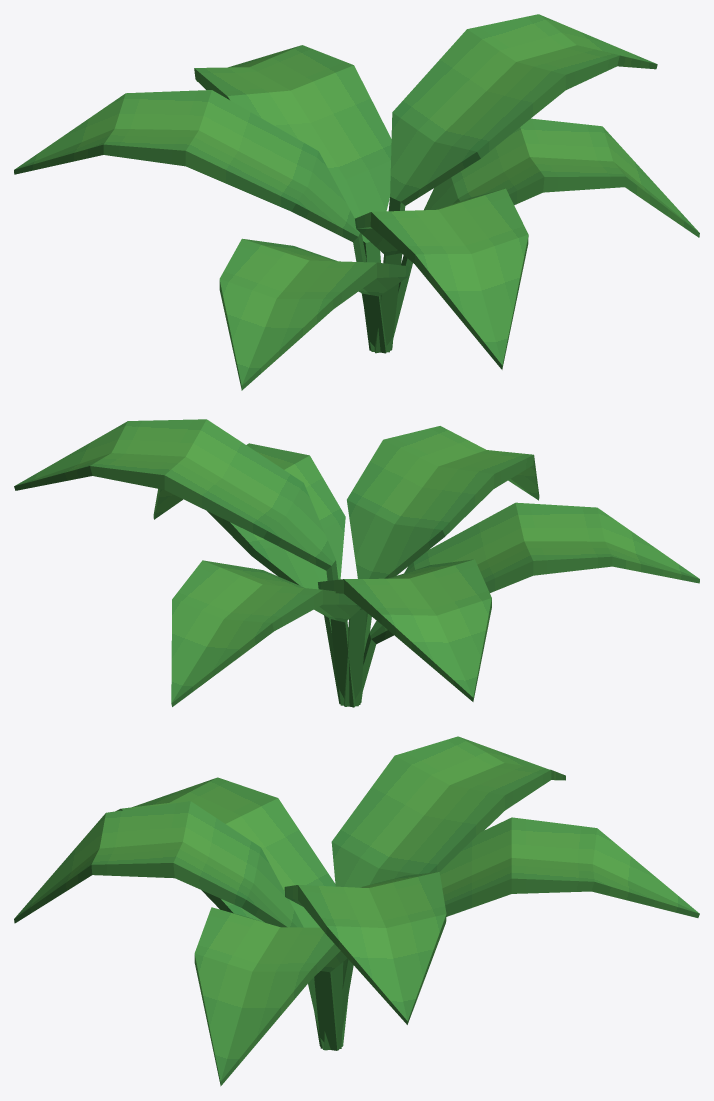
Rendered from Plant_007.fbx.
3 views of the same model, one above another, from view 1: azimuth 30°, elevation 25°; view 2: azimuth 150°, elevation 25°; view 3: azimuth 270°, elevation 25° (orthographic). The views are drawn at different scales.
Parts seen in each view (by area): view 1: Plant.007; view 2: Plant.007; view 3: Plant.007.
Boxes of the visible parts, x1,y1,x2,y2 form: Plant.007: (14, 14, 699, 390); Plant.007: (14, 419, 699, 707); Plant.007: (14, 736, 699, 1086).
Bounding box in the file's own units: 1.04 × 0.4272 × 1.09.
